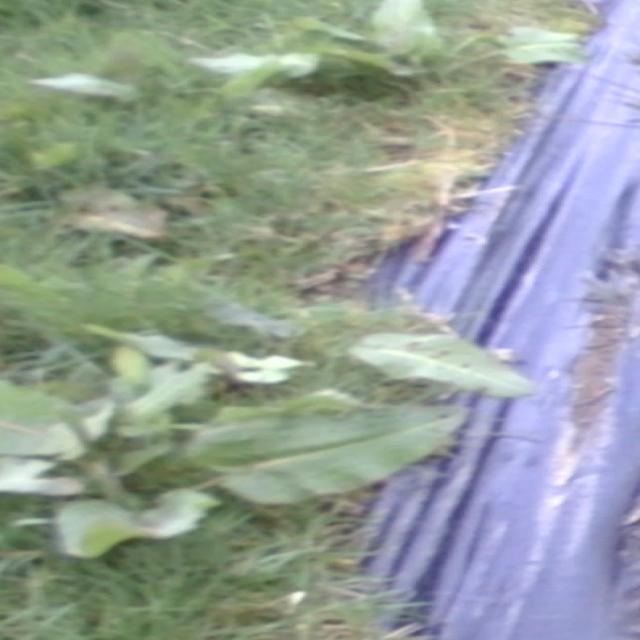organic waste: (42, 0, 640, 164), (0, 349, 431, 555), (141, 269, 575, 417), (240, 0, 570, 114), (15, 14, 322, 112)
